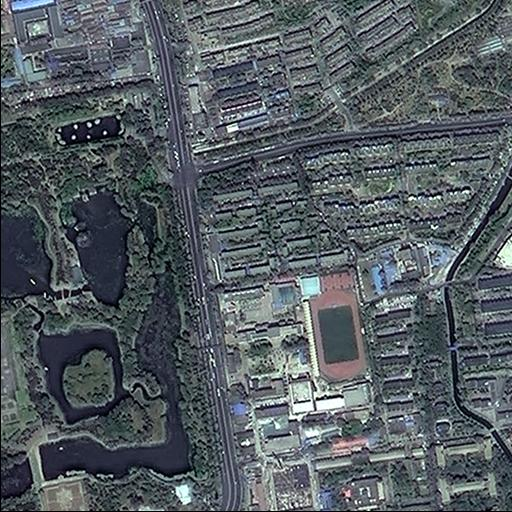school: (211, 266, 381, 464)
